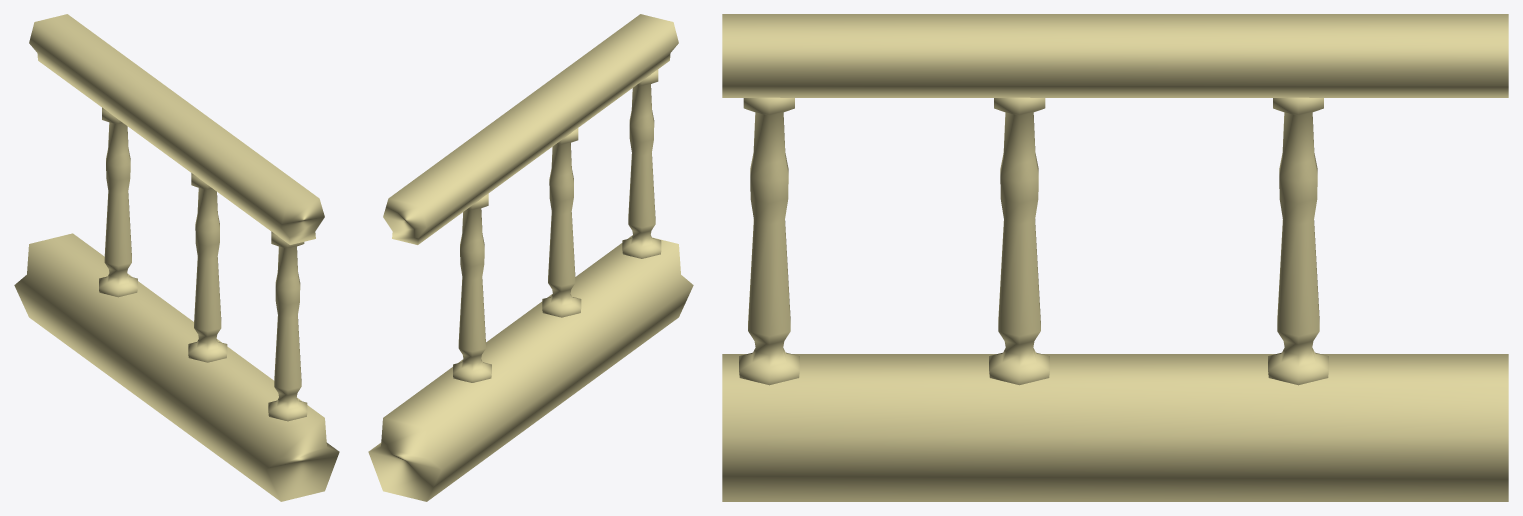
File: Wood_Baluster_02_lod0.fbx
3 views of the same model, side by side, from view 1: azimuth 30°, elevation 25°; view 2: azimuth 150°, elevation 25°; view 3: azimuth 270°, elevation 25° (orthographic). The views are drawn at different scales.
Visible parts, largest first — view 1: Wood_Baluster_02_lod0; view 2: Wood_Baluster_02_lod0; view 3: Wood_Baluster_02_lod0.
Part boxes in pixels (x1,y1,x2,y2): Wood_Baluster_02_lod0: (14,14,339,501); Wood_Baluster_02_lod0: (368,14,693,501); Wood_Baluster_02_lod0: (722,14,1508,501).
Bounding box in the file's own units: 25.19 × 96.53 × 150.
